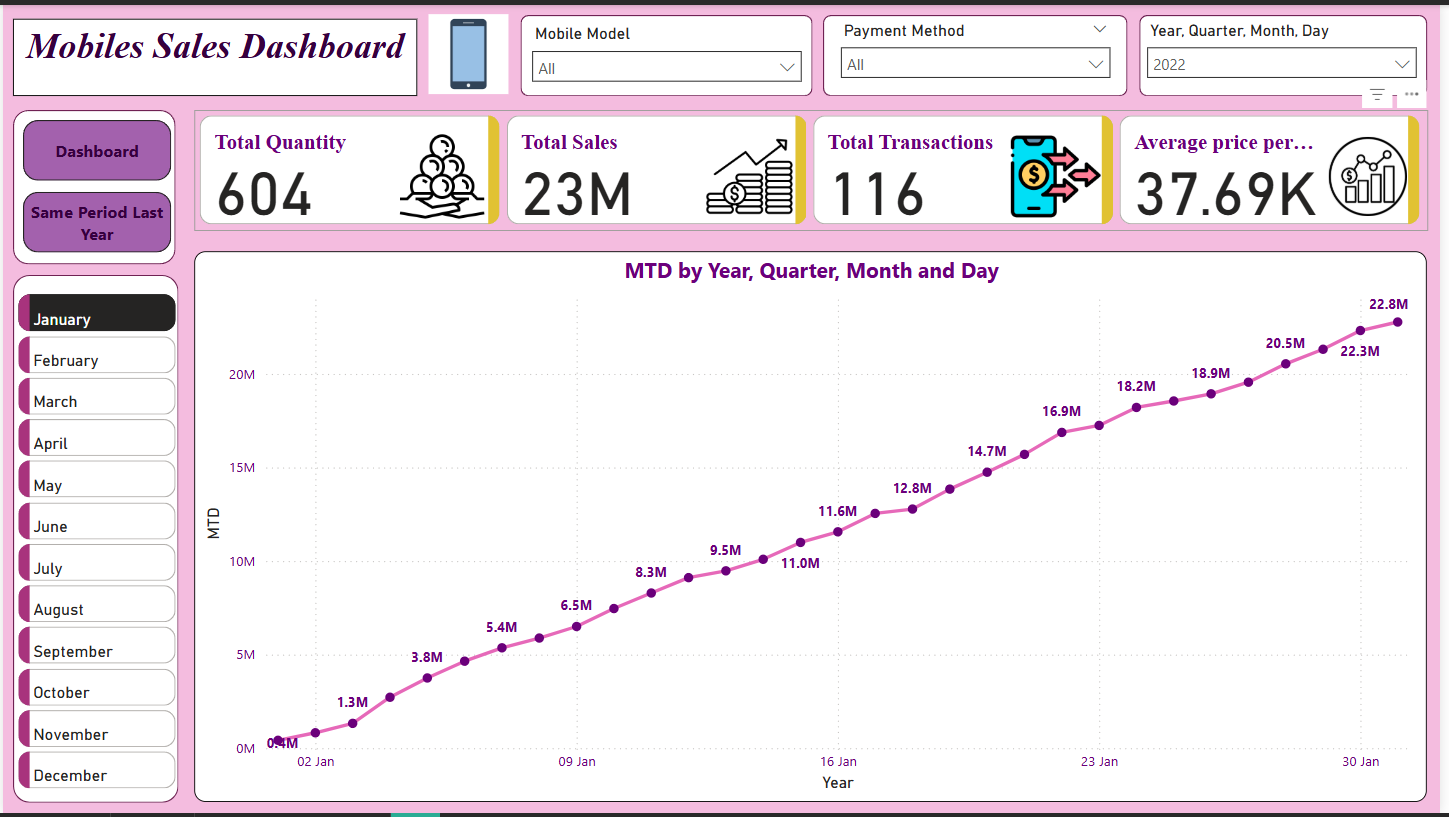

The dashboard page shown, as its layout file describes it:
{"tool":"powerbi","page":{"name":"MTD","canvas":[1280,720],"ordinal":1},"visuals":[{"type":"shape","box":[8.8,240,147.5,470],"z":0},{"type":"advancedSlicerVisual","fields":{"Values":["Date_Table.Date.Variation.Date Hierarchy.Month"]},"box":[8.8,252.5,150,457.5],"z":1000},{"type":"shape","box":[8.6,93.3,144.8,137.4],"z":2000},{"type":"shape","box":[461.4,8.6,260.1,72.4],"z":3000},{"type":"textbox","box":[8.8,12.5,360,68.8],"z":4000},{"type":"shape","box":[730.1,8.6,271.2,72.4],"z":5000},{"type":"shape","box":[1012.3,8.6,256.4,72.4],"z":6000},{"type":"slicer","fields":{"Values":["Sales_Data.Mobile Model"]},"box":[461.4,12.3,260.1,66.3],"z":7000},{"type":"slicer","fields":{"Values":["Sales_Data.Payment Method"]},"box":[736.2,8.6,260.1,66.3],"z":8000},{"type":"slicer","fields":{"Values":["Date_Table.Date.Variation.Date Hierarchy.Year","Date_Table.Date.Variation.Date Hierarchy.Quarter","Date_Table.Date.Variation.Date Hierarchy.Month","Date_Table.Date.Variation.Date Hierarchy.Day"]},"box":[1008.6,8.6,260.1,66.3],"z":9000},{"type":"cardVisual","fields":{"Data":["Sales_Data.Total Quantity","Sales_Data.Total Sales","Sales_Data.Total Transactions","Sales_Data.Average price per unit"]},"box":[170,93.8,1098.8,107.5],"z":10000},{"type":"image","box":[357.5,3.8,113.8,81.2],"z":11000},{"type":"lineChart","fields":{"Category":["Date_Table.Date.Variation.Date Hierarchy.Year","Date_Table.Date.Variation.Date Hierarchy.Quarter","Date_Table.Date.Variation.Date Hierarchy.Month","Date_Table.Date.Variation.Date Hierarchy.Day"],"Y":["Sales_Data.MTD"]},"box":[170.2,219.3,1097.9,490.5],"z":12000},{"type":"pageNavigator","box":[17.3,102.4,132.7,118.3],"z":13000}]}

Visuals, with their boxes in screenshot pixels (x1, y1, x2, y2), scaled from the page's 1280x720 canvas onto the 1449x817 screenshot:
shape: rect(10, 272, 177, 806)
advancedSlicerVisual - Date_Table.Date.Variation.Date Hierarchy.Month: rect(10, 287, 180, 806)
shape: rect(10, 106, 174, 262)
shape: rect(522, 10, 817, 92)
textbox: rect(10, 14, 417, 92)
shape: rect(826, 10, 1134, 92)
shape: rect(1146, 10, 1436, 92)
slicer - Sales_Data.Mobile Model: rect(522, 14, 817, 89)
slicer - Sales_Data.Payment Method: rect(833, 10, 1128, 85)
slicer - Date_Table.Date.Variation.Date Hierarchy.Year x Date_Table.Date.Variation.Date Hierarchy.Quarter: rect(1142, 10, 1436, 85)
cardVisual - Sales_Data.Total Quantity x Sales_Data.Total Sales: rect(192, 106, 1436, 228)
image: rect(405, 4, 534, 96)
lineChart - Date_Table.Date.Variation.Date Hierarchy.Year x Date_Table.Date.Variation.Date Hierarchy.Quarter: rect(193, 249, 1436, 805)
pageNavigator: rect(20, 116, 170, 250)
